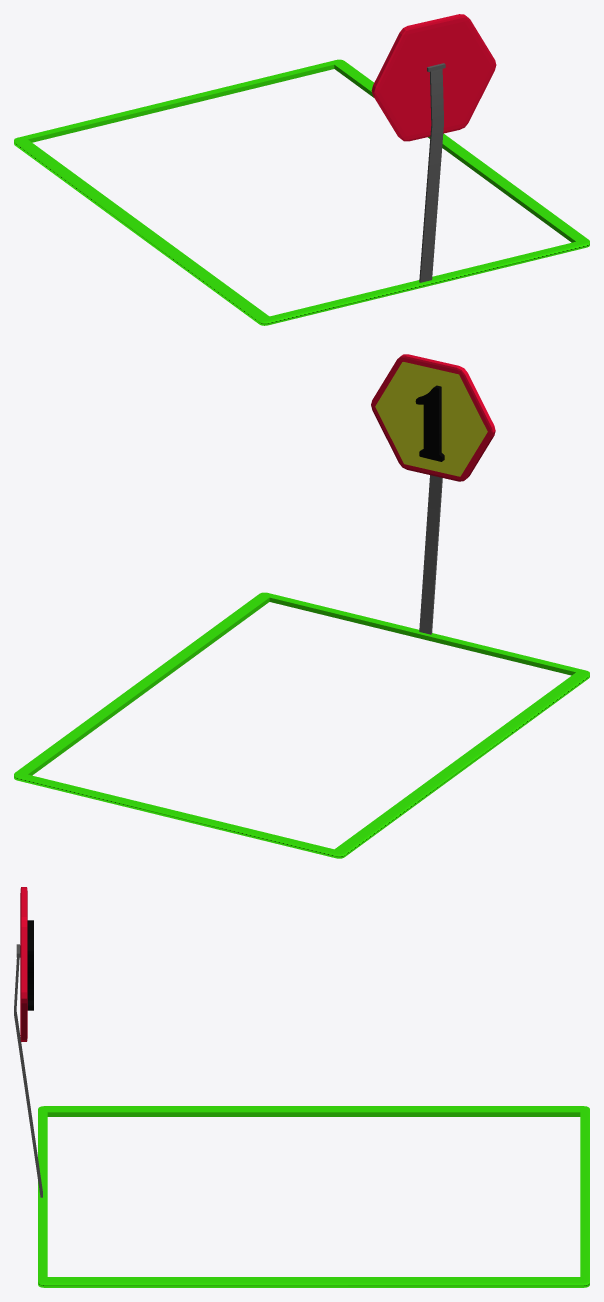
File: One.fbx
The picture shows the model from 3 angles, top to bottom: view 1: azimuth 30°, elevation 25°; view 2: azimuth 150°, elevation 25°; view 3: azimuth 270°, elevation 25°; orthographic projection. The views are drawn at different scales.
Parts seen in each view (by area): view 1: Cube, Cylinder; view 2: Cube, Cylinder.001, Cylinder, Text; view 3: Cube, Cylinder, Text.
Boxes of the visible parts, box(x1,y1,x2,y2) form: Cube: box(14, 59, 589, 325); Cylinder: box(371, 14, 496, 141); Cube: box(14, 475, 589, 858); Cylinder.001: box(375, 362, 487, 476); Cylinder: box(371, 354, 495, 481); Text: box(415, 385, 444, 461); Cube: box(14, 944, 589, 1287); Cylinder: box(20, 887, 27, 1041); Text: box(27, 920, 33, 1010).
Bounding box in the file's own units: 316 × 248 × 435.
